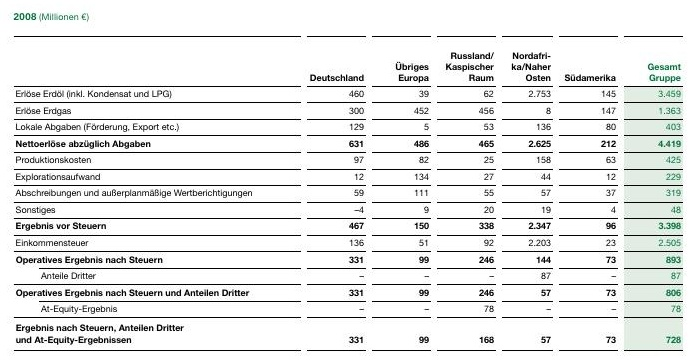table: (0, 0, 696, 361)
